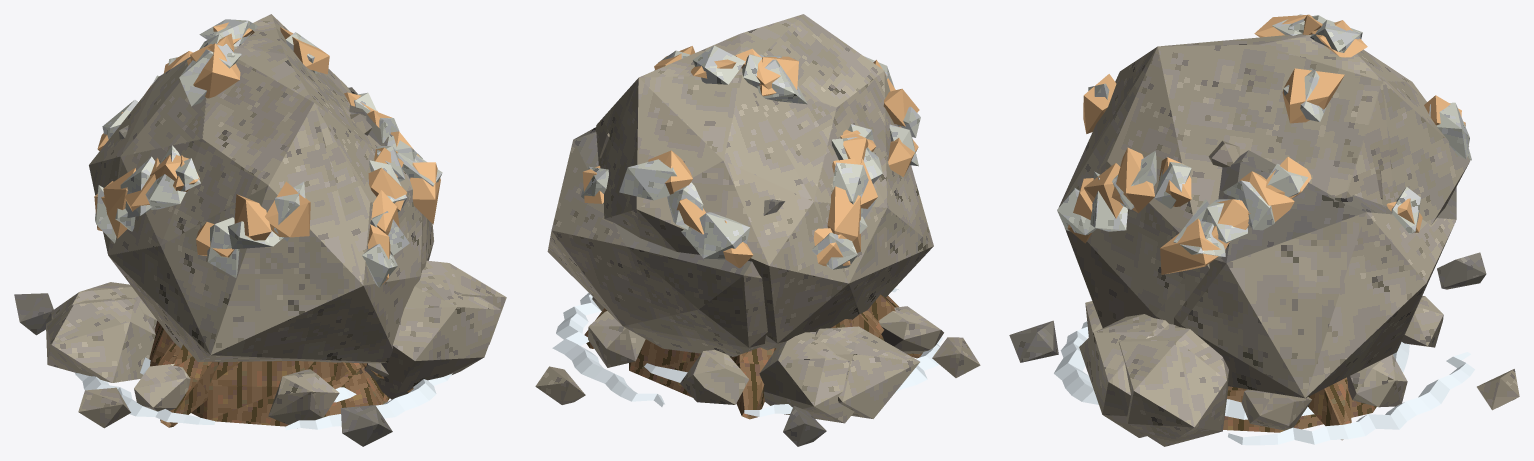
Rendered from props.glb.
The picture shows the model from 3 angles, left to right: view 1: azimuth 30°, elevation 25°; view 2: azimuth 150°, elevation 25°; view 3: azimuth 270°, elevation 25°; orthographic projection. The views are drawn at different scales.
Visible parts, largest first — view 1: ore-rock-tin_Rock, ore-rock-copper_Ore, ore-rock-tin_Ore, ore-rock-copper_Rock, tree-stump_Stump, campfire_Base, ore-rock-depleted_Rubble, ore-rock-depleted_Rock, fishing-ripple_Rings; view 2: ore-rock-copper_Rock, ore-rock-depleted_Rock, ore-rock-tin_Rock, ore-rock-tin_Ore, ore-rock-copper_Ore, campfire_Base, fishing-ripple_Rings, tree-stump_Stump, ore-rock-depleted_Rubble; view 3: ore-rock-depleted_Rock, ore-rock-tin_Rock, ore-rock-copper_Rock, ore-rock-copper_Ore, ore-rock-tin_Ore, fishing-ripple_Rings, campfire_Base, ore-rock-depleted_Rubble, tree-stump_Stump.
Boxes of the visible parts, x1,y1,x2,y2 form: ore-rock-tin_Rock: (48, 14, 501, 399); ore-rock-copper_Ore: (94, 22, 440, 284); ore-rock-tin_Ore: (95, 19, 442, 287); ore-rock-copper_Rock: (46, 14, 442, 364); tree-stump_Stump: (149, 321, 413, 427); campfire_Base: (134, 328, 388, 424); ore-rock-depleted_Rubble: (14, 113, 392, 446); ore-rock-depleted_Rock: (51, 87, 506, 344); fishing-ripple_Rings: (75, 357, 452, 430); ore-rock-copper_Rock: (595, 34, 932, 418); ore-rock-depleted_Rock: (547, 127, 854, 423); ore-rock-tin_Rock: (641, 14, 933, 417); ore-rock-tin_Ore: (581, 45, 920, 269); ore-rock-copper_Ore: (582, 46, 919, 268); campfire_Base: (588, 297, 943, 404); fishing-ripple_Rings: (552, 288, 942, 416); tree-stump_Stump: (584, 294, 922, 419); ore-rock-depleted_Rubble: (535, 133, 980, 446); ore-rock-depleted_Rock: (1118, 150, 1456, 446); ore-rock-tin_Rock: (1059, 34, 1381, 437); ore-rock-copper_Rock: (1109, 35, 1469, 437); ore-rock-copper_Ore: (1067, 14, 1465, 274); ore-rock-tin_Ore: (1057, 14, 1471, 257); fishing-ripple_Rings: (1054, 310, 1474, 445); campfire_Base: (1085, 295, 1443, 430); ore-rock-depleted_Rubble: (1009, 140, 1519, 410); tree-stump_Stump: (1223, 377, 1376, 440).
Bounding box in the file's own units: 1.2 × 0.9137 × 1.2.
Materials: 21 (7 with a texture image).
